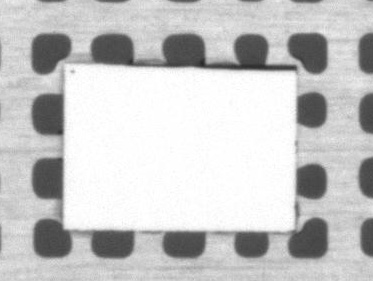DIE_INK: (69, 68, 77, 76)
